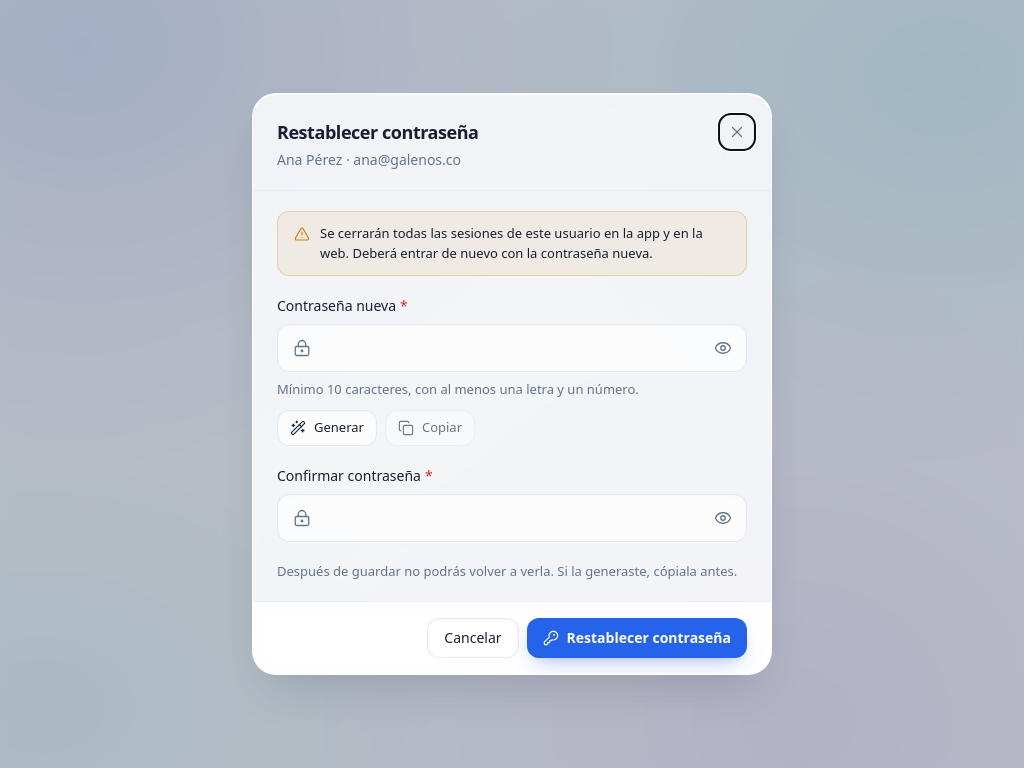
DialogoRestablecerContrasena › envía solo la contraseña nueva y cierra al terminar
This screenshot has width=1024, height=768.
In the password field labelled "Contraseña nueva": x=512, y=348 [277,324,747,372], type "Temporal2026abc"
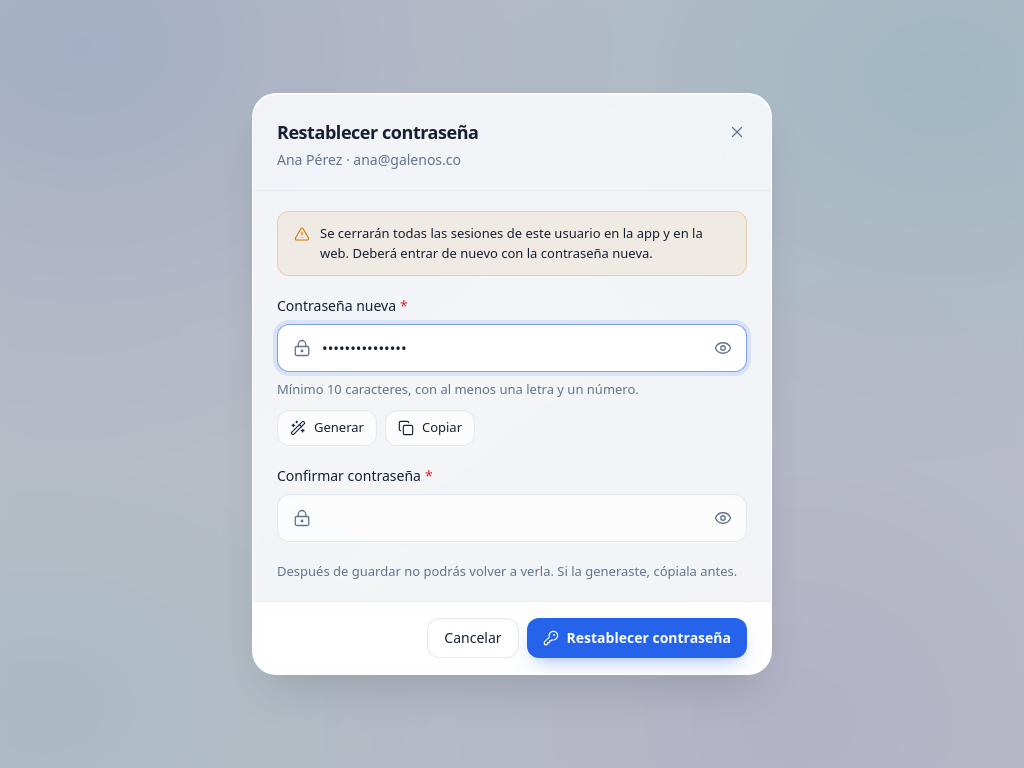
In the password field labelled "Confirmar contraseña": x=512, y=518 [277,494,747,542], type "Temporal2026abc"
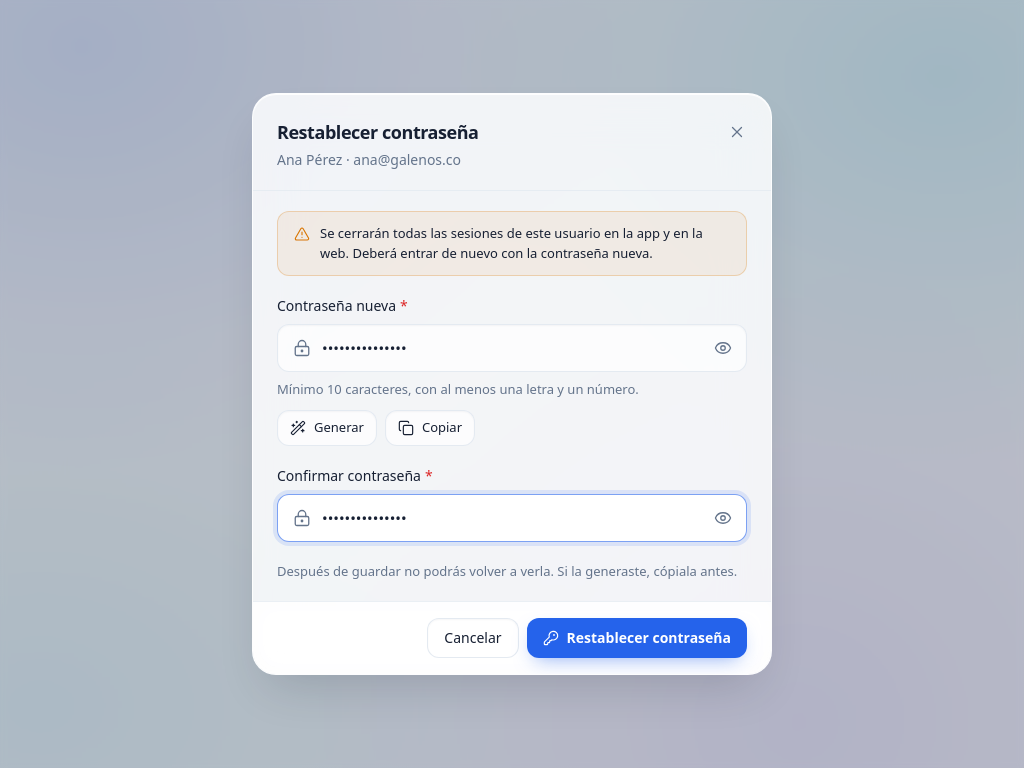
Click the button "Restablecer contraseña": x=637, y=638 [527,618,747,658]
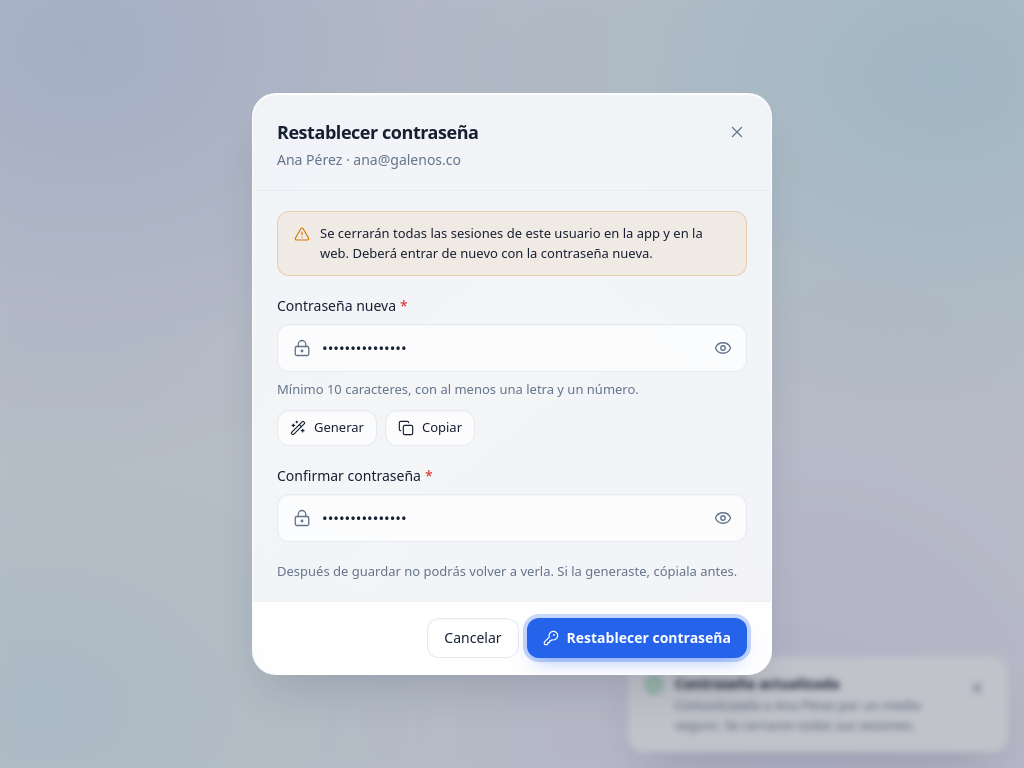
Check: the text "Contraseña actualizada" is shown, box [675,674,840,693]
